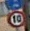limite 10: (6, 11, 25, 28)
